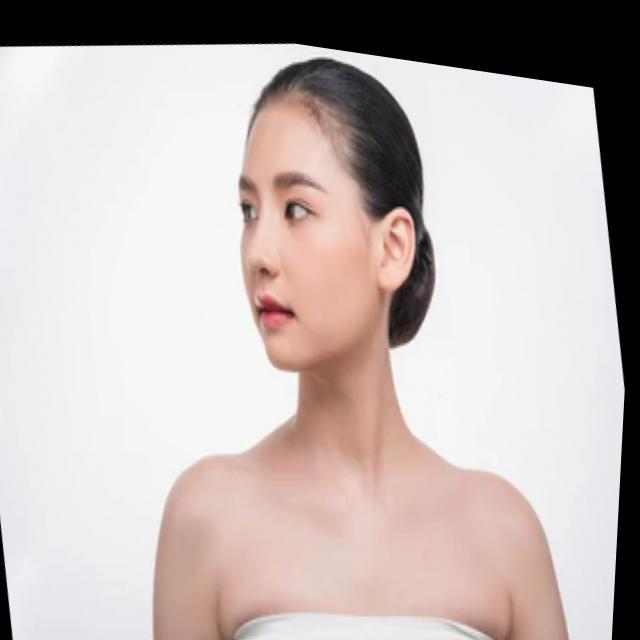Nonhelmet: (214, 48, 440, 382)
